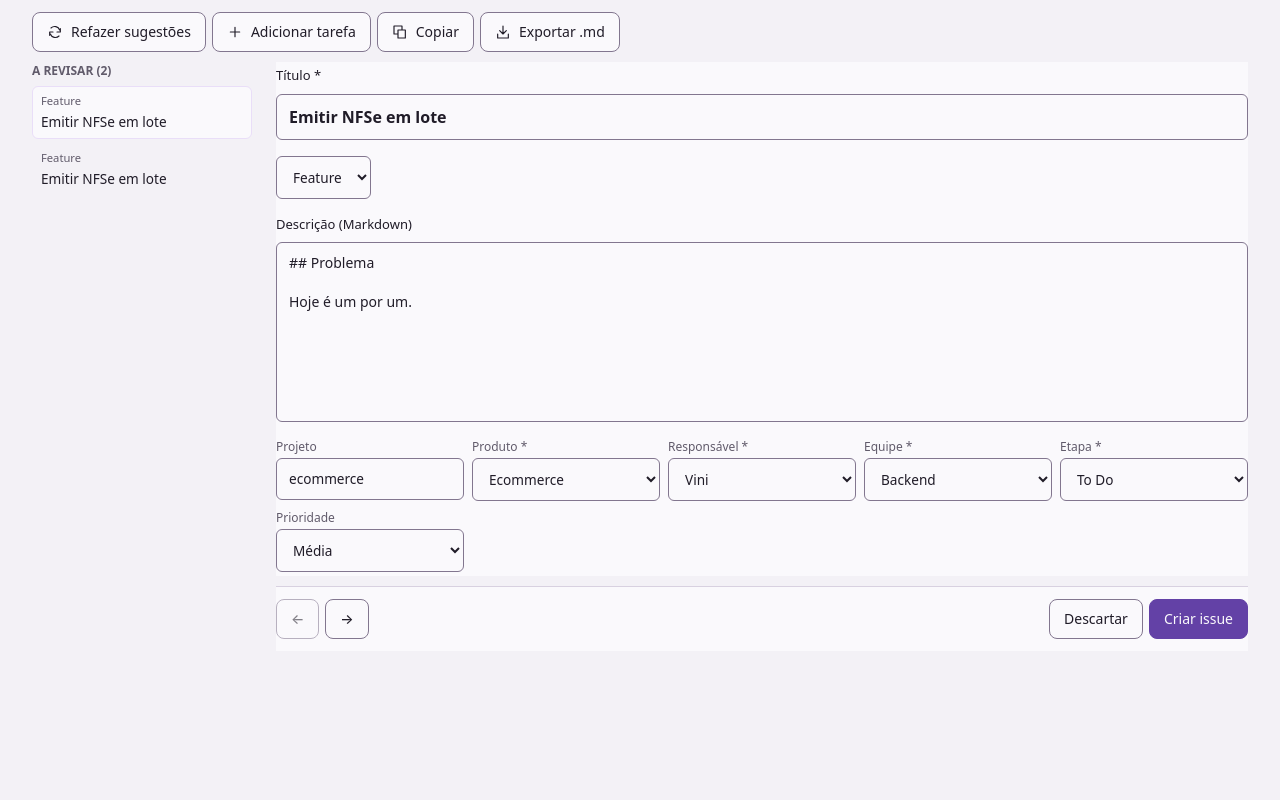
Test: TasksTab › item recusado na criação mostra o motivo e continua em Pendentes
Click the button "Criar issue" at (1198, 619), box [1149,599,1248,639]
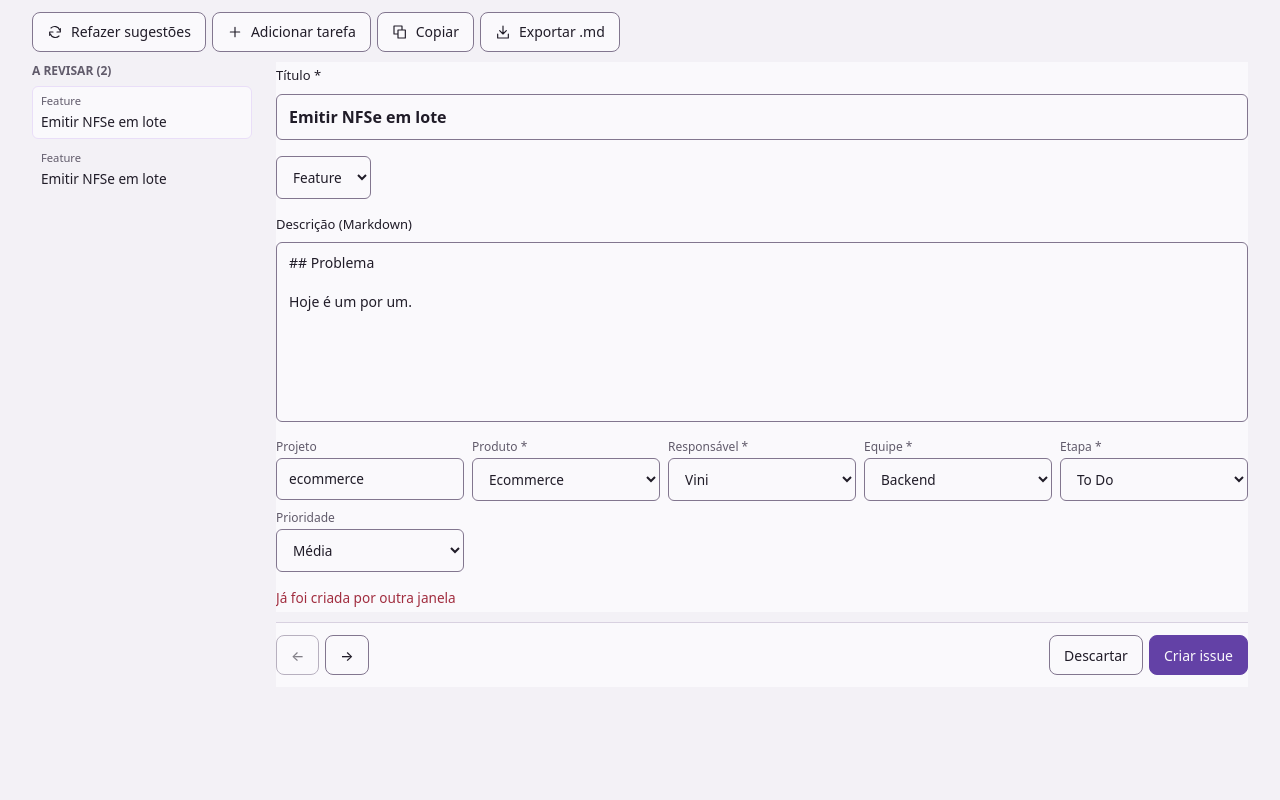
Check: the text "A revisar (2)" is shown, box [32,62,112,79]
Check: the element that starts with "Título *" shows "Já foi criada por outra janela", box [276,588,456,607]
